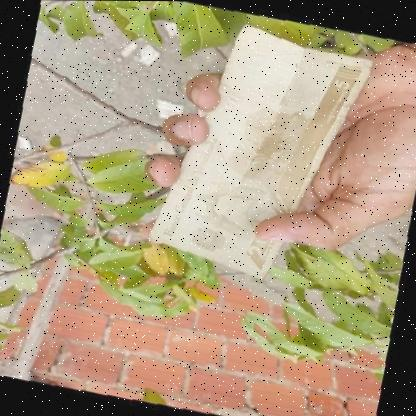vef_back: (144, 12, 374, 293)
